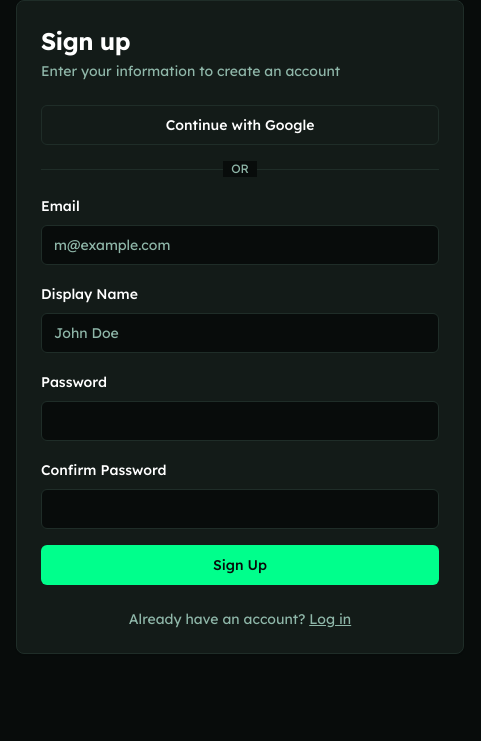
Test: SignUpForm › should show error when passwords do not match
In the field labelled "Email": (240, 245) [41,225,439,265], type "test@example.com"
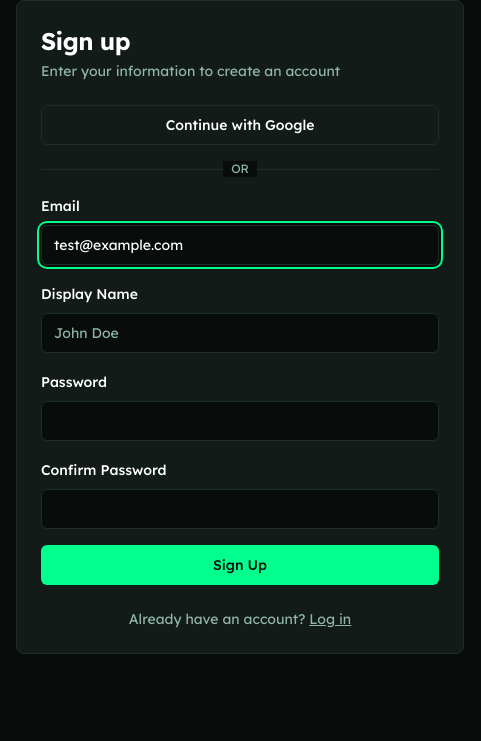
In the field labelled "Display Name": (240, 333) [41,313,439,353], type "Test User"
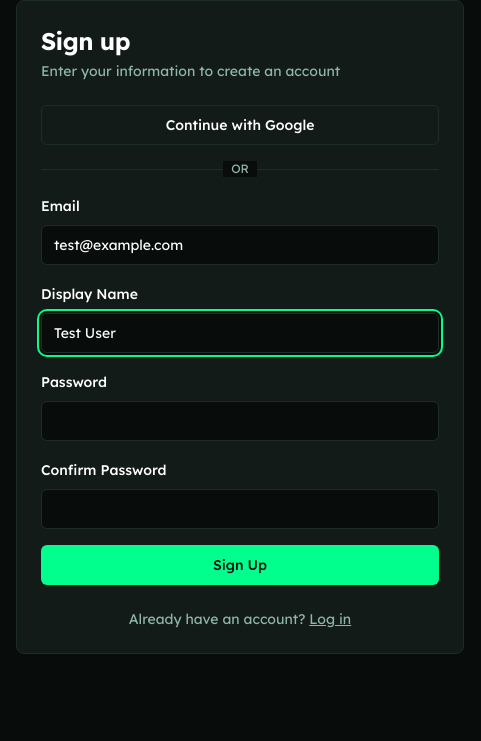
In the password field labelled "Password": (240, 421) [41,401,439,441], type "password123"
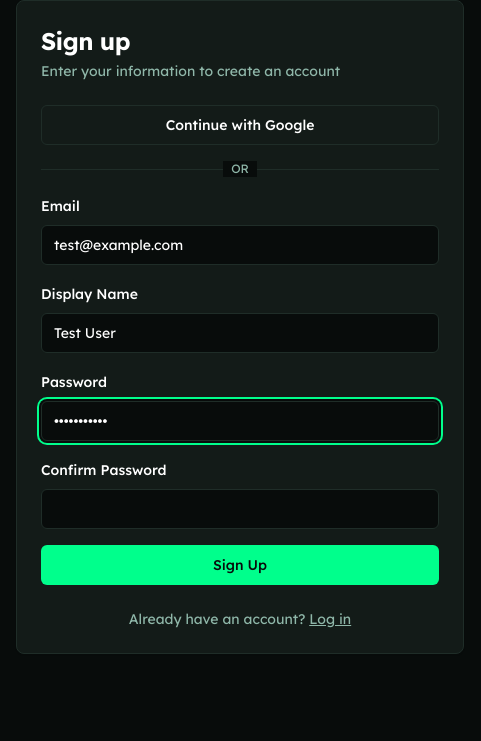
In the password field labelled "Confirm Password": (240, 509) [41,489,439,529], type "different123"
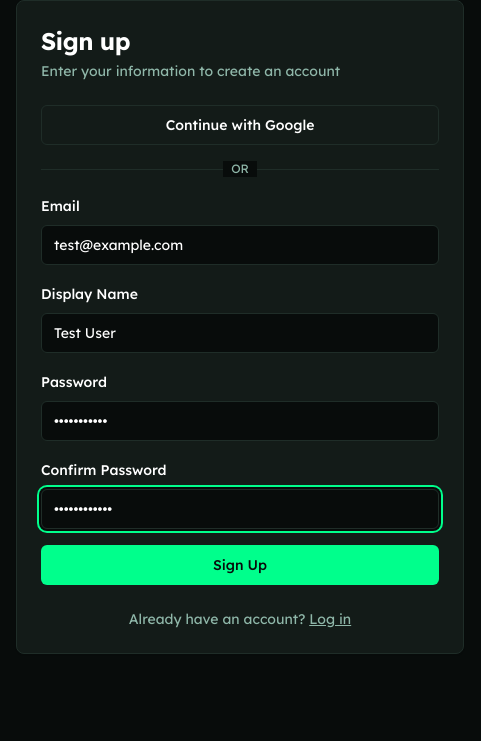
Click the button "Sign Up": (240, 565) [41,545,439,585]
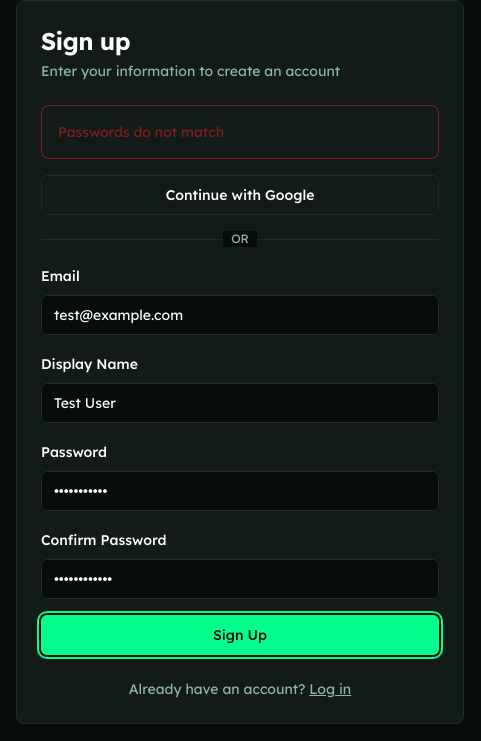
Expected: the text "Passwords do not match" is shown, [58,123,224,141]
